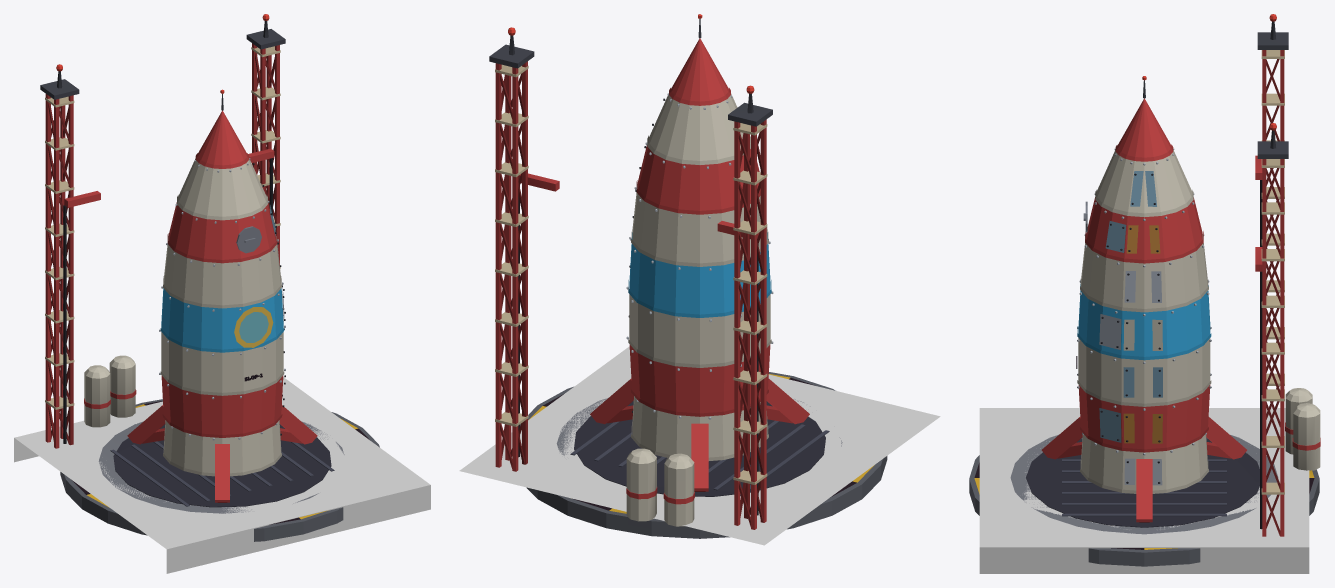
File: rocket.glb
The picture shows the model from 3 angles, left to right: view 1: azimuth 30°, elevation 25°; view 2: azimuth 150°, elevation 25°; view 3: azimuth 270°, elevation 25°; orthographic projection. The views are drawn at different scales.
Parts seen in each view (by area): view 1: rocket, COL_0, DYN_s0, DYN_s3, DYN_s2, DYN_s4, DYN_s1, DYN_s5, DYN_s6, DYN_s7; view 2: rocket, COL_0, DYN_s0, DYN_s3, DYN_s2, DYN_s4, DYN_s1, DYN_s5, DYN_s6, DYN_s7; view 3: rocket, COL_0, DYN_s0, DYN_s3, DYN_s2, DYN_s4, DYN_s1, DYN_s5, DYN_s6, DYN_s7.
Part boxes in pixels (x1,y1,x2,y2): rocket: [40, 14, 379, 541]; COL_0: [14, 377, 430, 573]; DYN_s0: [127, 405, 317, 502]; DYN_s3: [160, 282, 285, 352]; DYN_s2: [159, 325, 285, 395]; DYN_s4: [163, 236, 281, 308]; DYN_s1: [159, 368, 285, 437]; DYN_s5: [167, 200, 277, 263]; DYN_s6: [177, 158, 267, 220]; DYN_s7: [195, 89, 249, 168]; rocket: [489, 27, 887, 538]; COL_0: [459, 346, 940, 545]; DYN_s0: [590, 379, 809, 491]; DYN_s3: [628, 232, 771, 317]; DYN_s2: [626, 286, 773, 367]; DYN_s4: [631, 184, 768, 266]; DYN_s1: [626, 336, 773, 416]; DYN_s5: [636, 142, 760, 214]; DYN_s6: [647, 93, 750, 164]; DYN_s7: [669, 14, 730, 105]; rocket: [969, 14, 1320, 566]; COL_0: [979, 408, 1309, 573]; DYN_s0: [1041, 417, 1246, 522]; DYN_s3: [1077, 280, 1211, 360]; DYN_s2: [1076, 326, 1211, 406]; DYN_s4: [1080, 234, 1208, 312]; DYN_s1: [1077, 373, 1211, 452]; DYN_s5: [1083, 193, 1203, 263]; DYN_s6: [1095, 148, 1193, 217]; DYN_s7: [1115, 76, 1173, 161].
Bounding box in the file's own units: 13.6 × 18.66 × 13.64.
